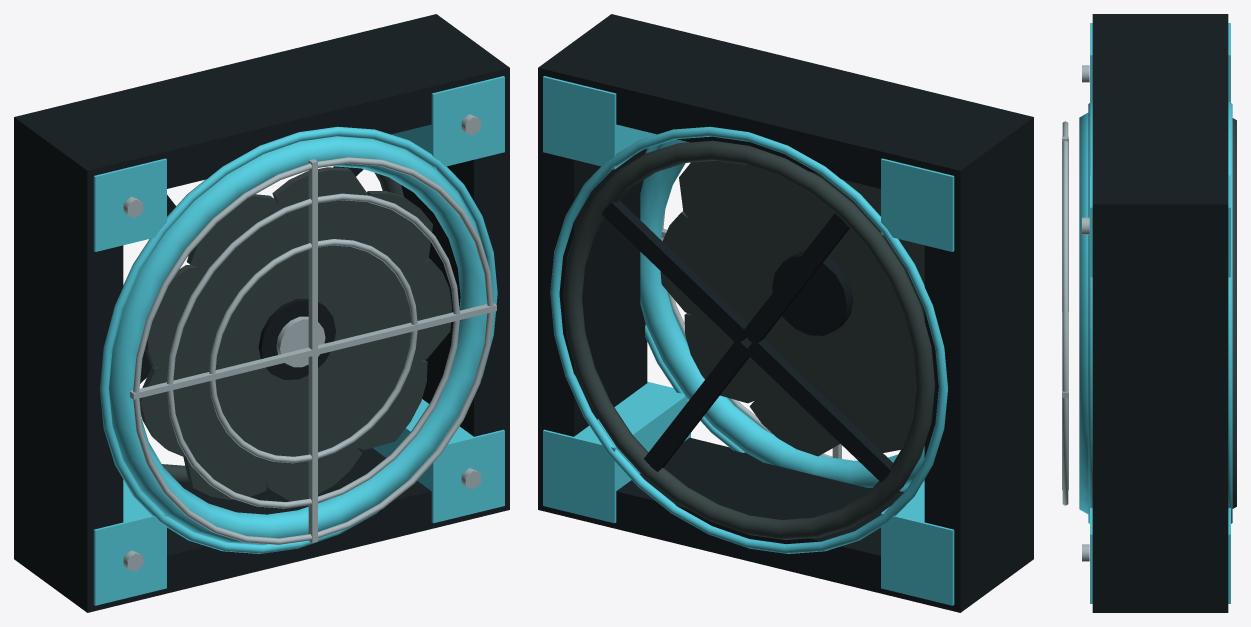
Rendered from fan-rgb-200.glb.
The picture shows the model from 3 angles, left to right: view 1: azimuth 30°, elevation 25°; view 2: azimuth 150°, elevation 25°; view 3: azimuth 270°, elevation 25°; orthographic projection. The views are drawn at different scales.
Parts seen in each view (by area): view 1: Rubber and ABS, Coolant blue, Anodized graphite, Brushed aluminium, fan-rotor, fan-rgb-200; view 2: Rubber and ABS (×2), Coolant blue, Anodized graphite, fan-rgb-200, fan-rotor, Brushed aluminium; view 3: Rubber and ABS, Coolant blue, Brushed aluminium, fan-rgb-200.
Part boxes in pixels (box(x1,y1,x2,y2)): Rubber and ABS: box(14, 14, 509, 612); Coolant blue: box(93, 76, 504, 605); Anodized graphite: box(139, 167, 452, 501); Brushed aluminium: box(123, 114, 496, 571); fan-rotor: box(258, 298, 335, 379); fan-rgb-200: box(162, 173, 403, 484); Rubber and ABS (×2): box(538, 14, 1033, 612); Coolant blue: box(543, 76, 954, 605); Anodized graphite: box(660, 160, 924, 456); fan-rgb-200: box(563, 140, 934, 539); fan-rotor: box(772, 251, 853, 335); Brushed aluminium: box(661, 210, 852, 460); Rubber and ABS: box(1092, 14, 1228, 612); Coolant blue: box(1079, 23, 1232, 603); Brushed aluminium: box(1062, 65, 1089, 561); fan-rgb-200: box(1232, 118, 1236, 508).
Bounding box in the file's own units: 1.66 × 1.66 × 0.6441.
